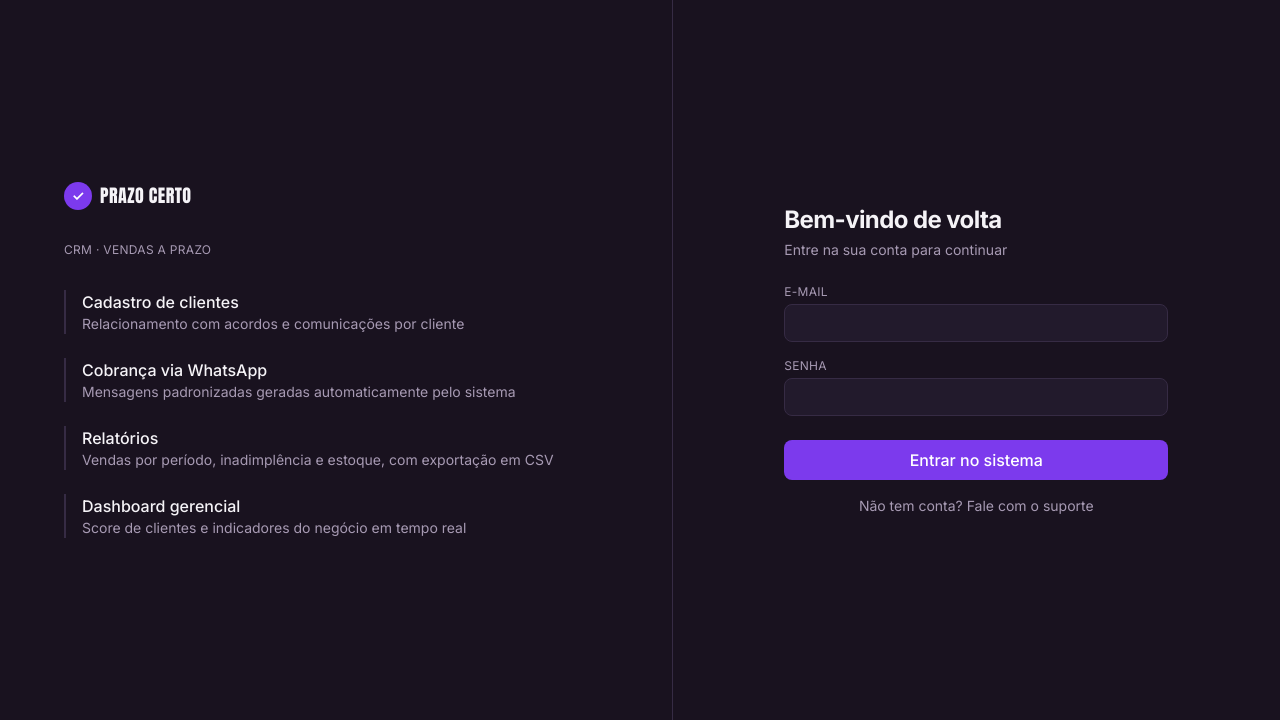
Scenario: LoginPage › mostra mensagem genérica quando o erro não é uma ApiError
In the field labelled "E-mail": (976, 323) [784,304,1168,342], type "gabriel@teste.com"
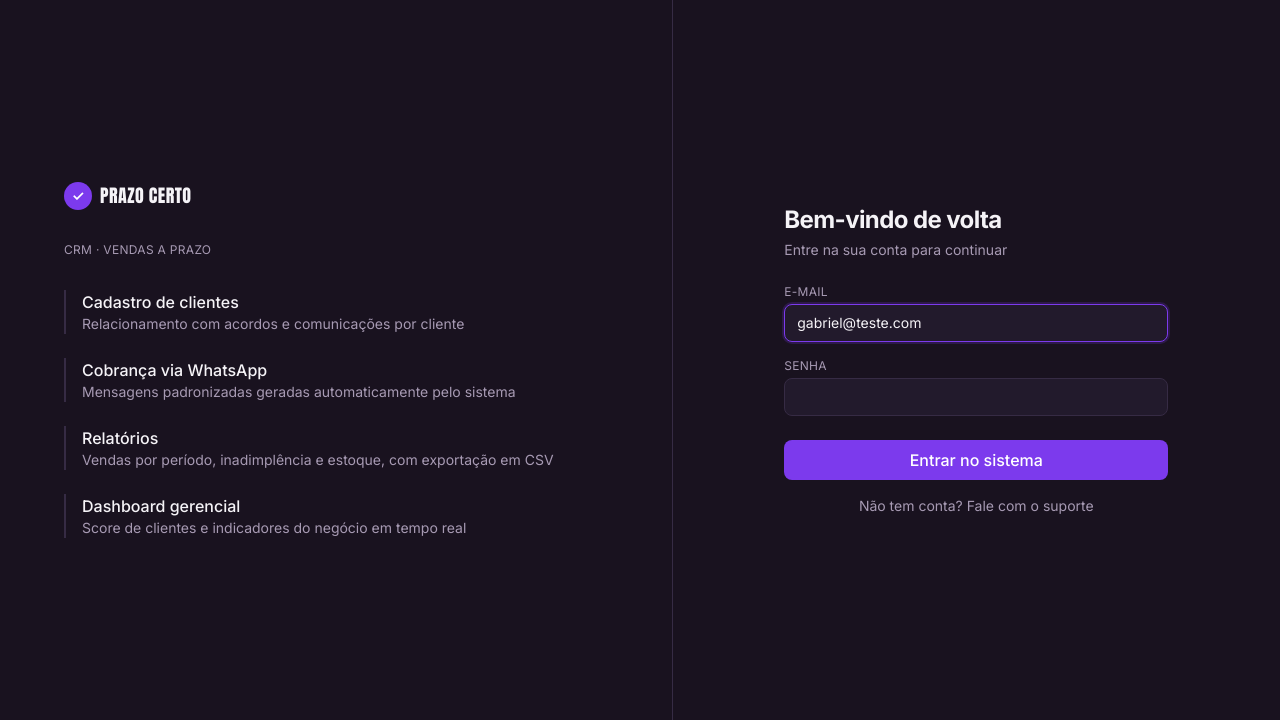
In the password field labelled "Senha": (976, 397) [784,378,1168,416], type "errada"
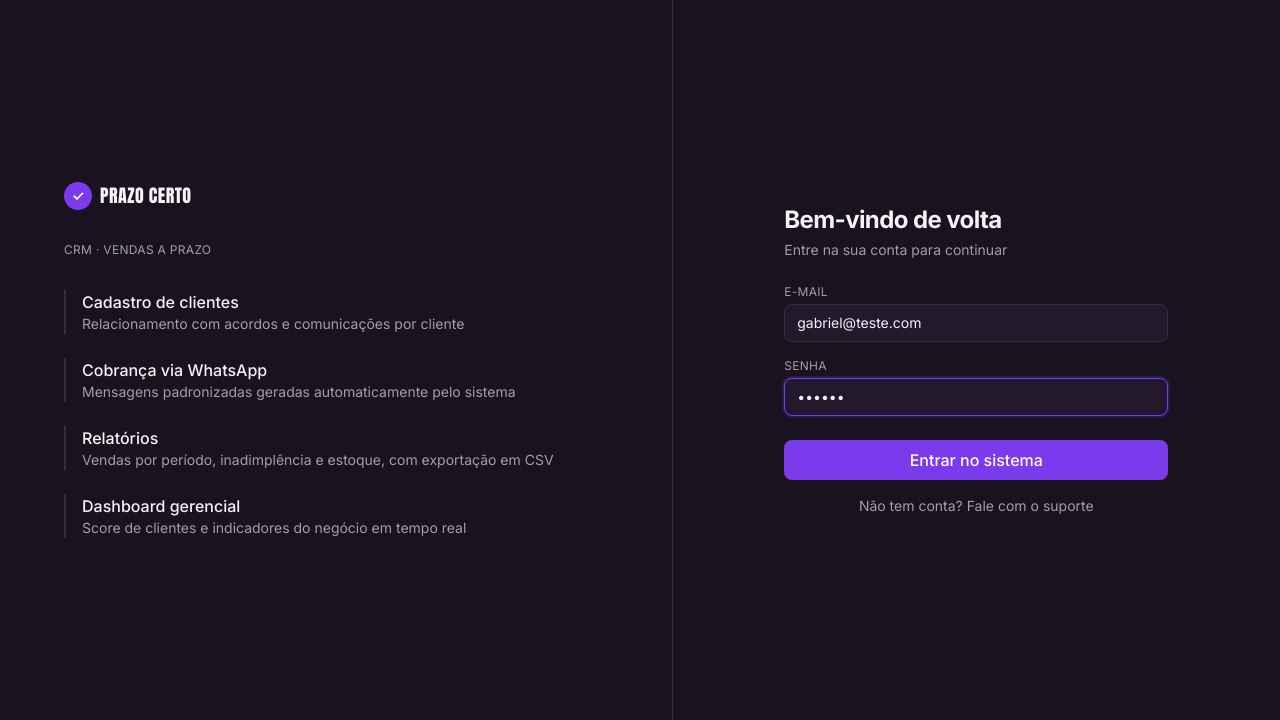
Click the button "Entrar no sistema": (976, 460) [784,440,1168,480]
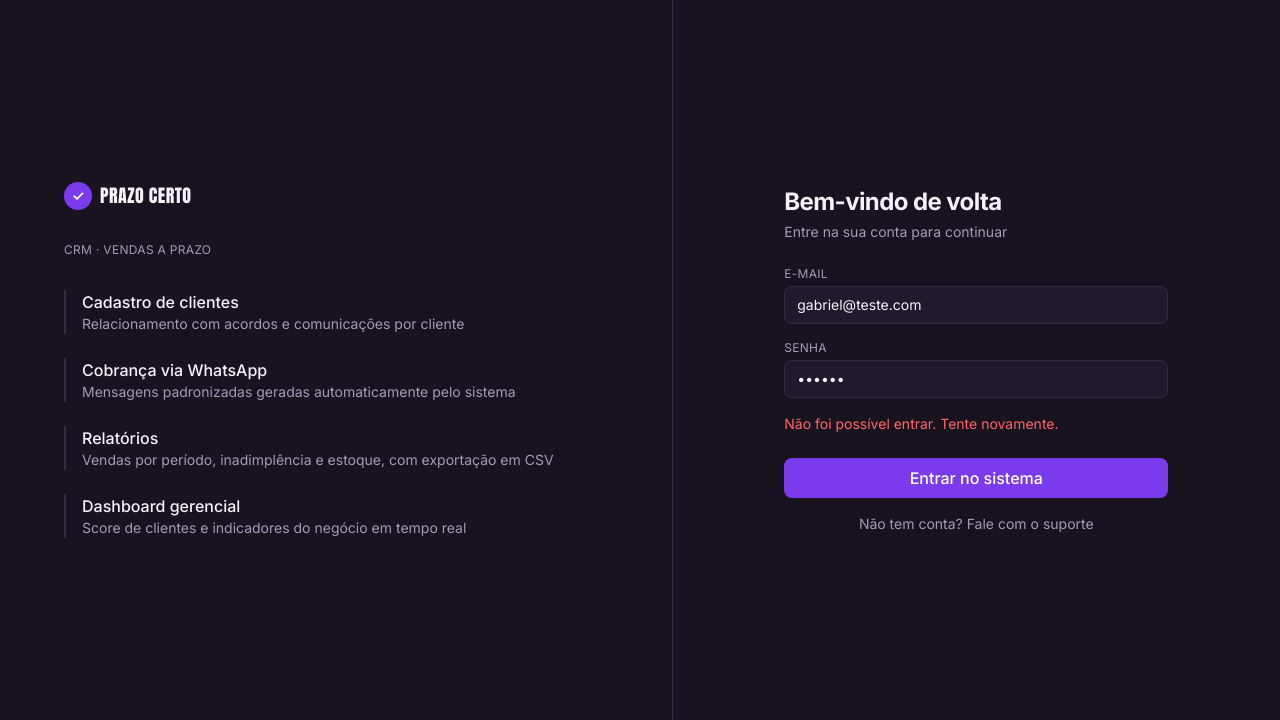
expect the text "Não foi possível entrar. Tente novamente." is shown: met, box [784,415,1059,432]
